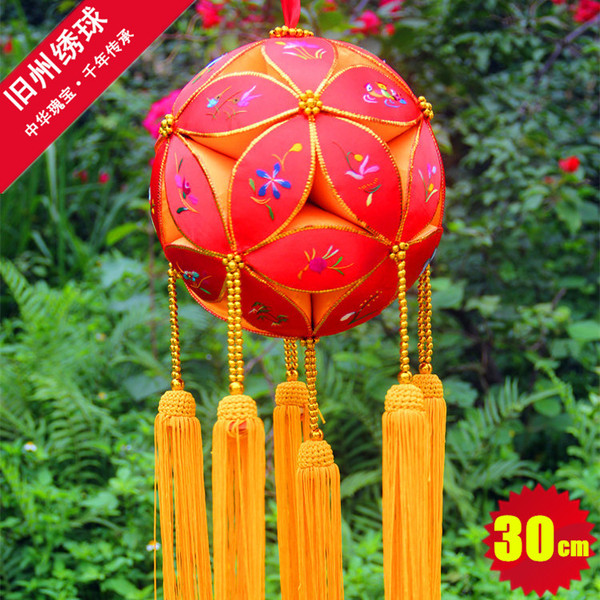xiuqiu: (150, 36, 447, 338)
